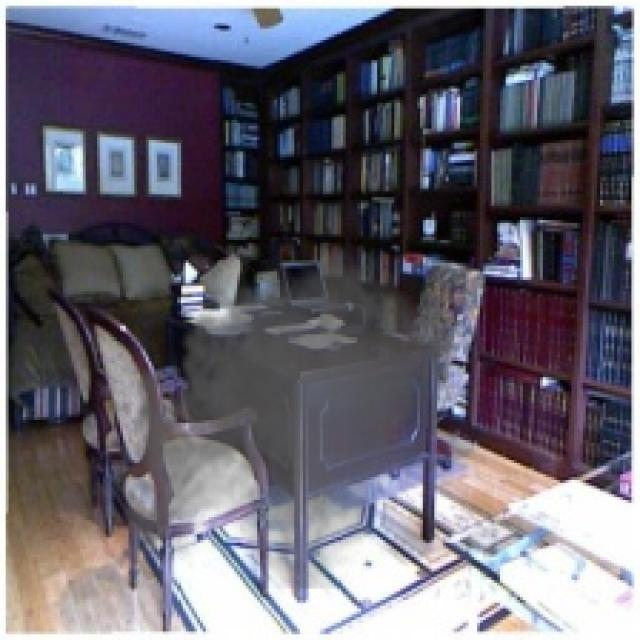Smoke: (111, 232, 463, 588)
